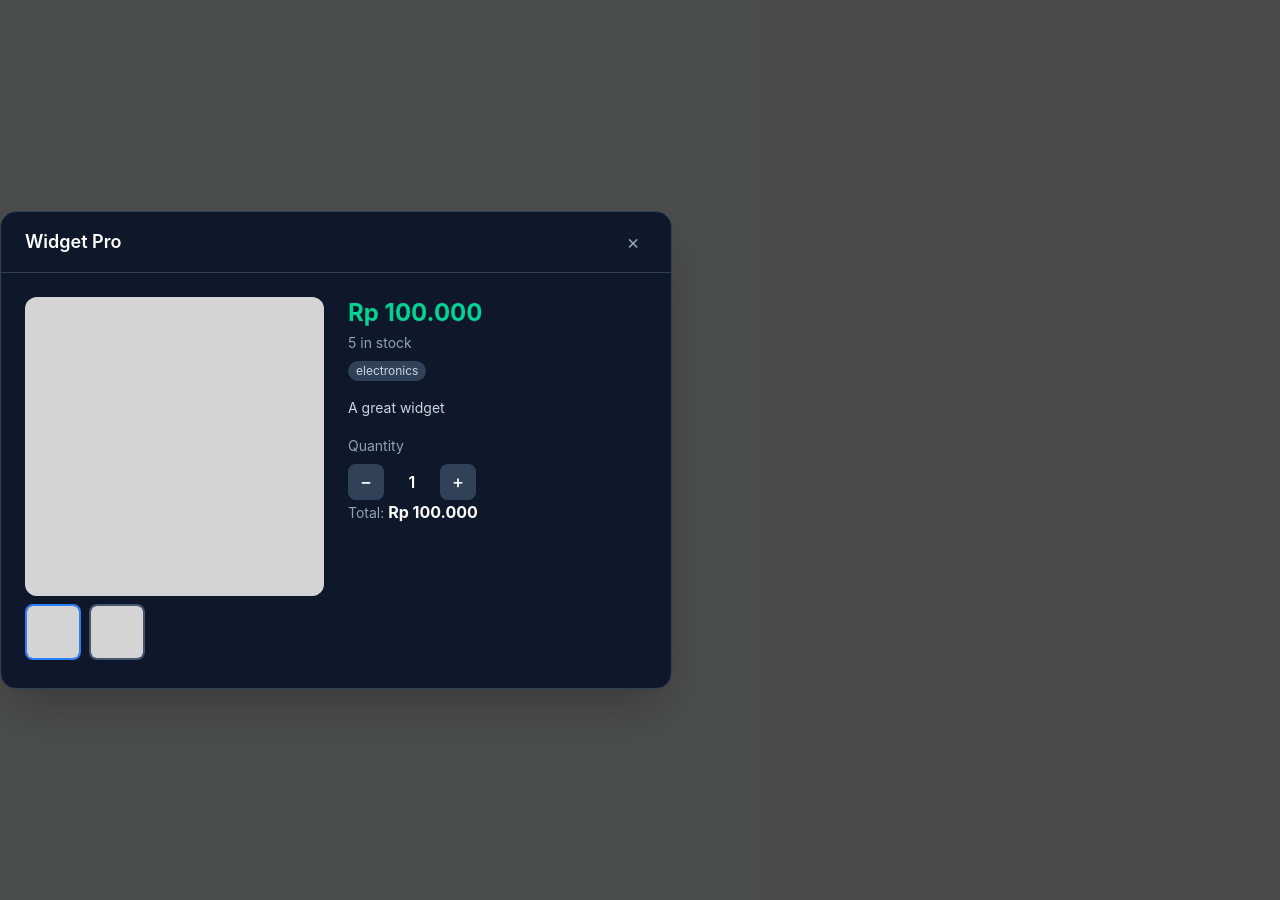
Test case: ProductDetailModal › increments and decrements quantity
What coordinates should you click on to do the following:
click the button "+"
I would click on:
 (458, 482)
Its box is top-left (440, 464), bottom-right (476, 500).
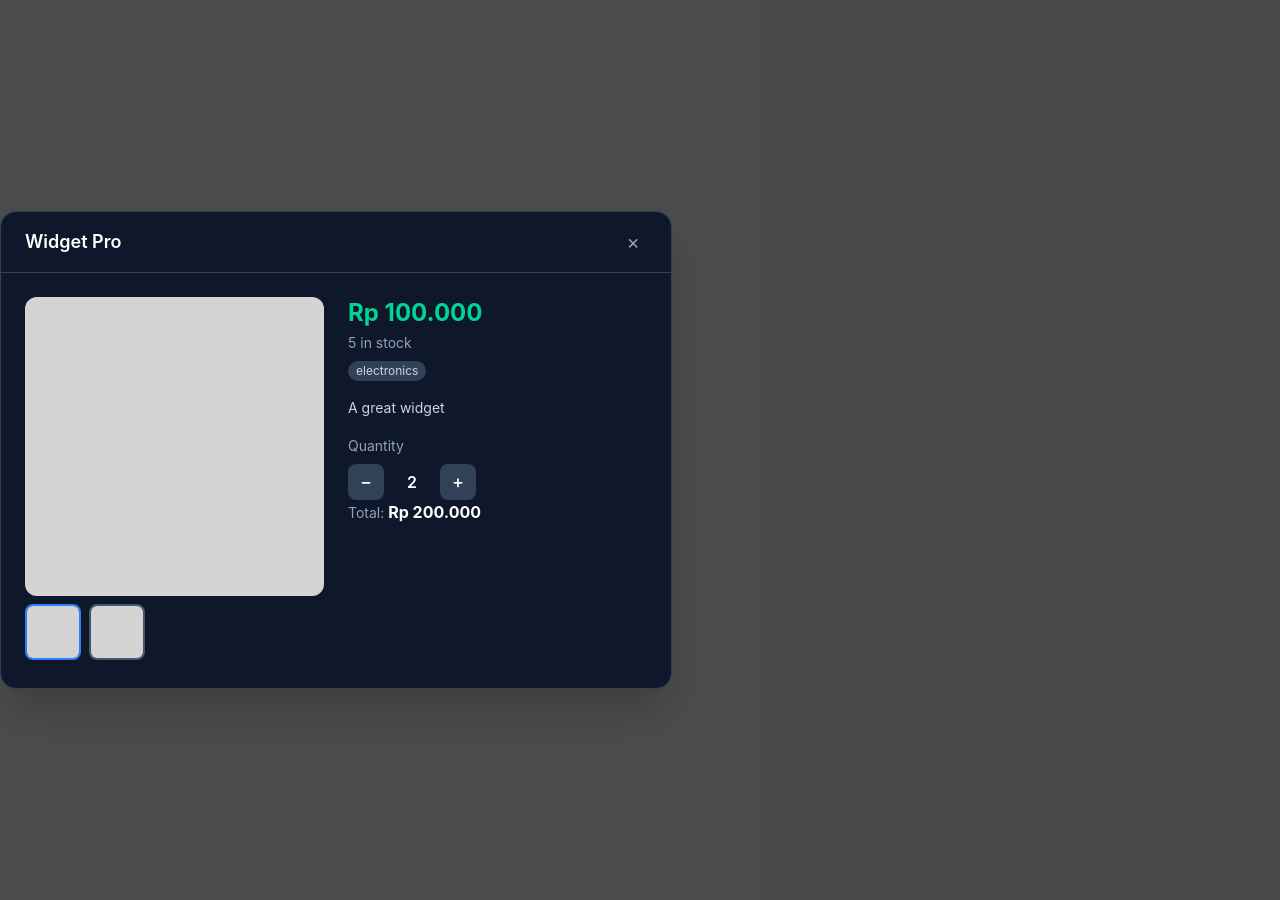
Expected: the text "2" is shown, top-left (407, 472), bottom-right (417, 492)
What coordinates should you click on to do the following:
click the button "−"
I would click on:
 (366, 482)
Its box is top-left (348, 464), bottom-right (384, 500).
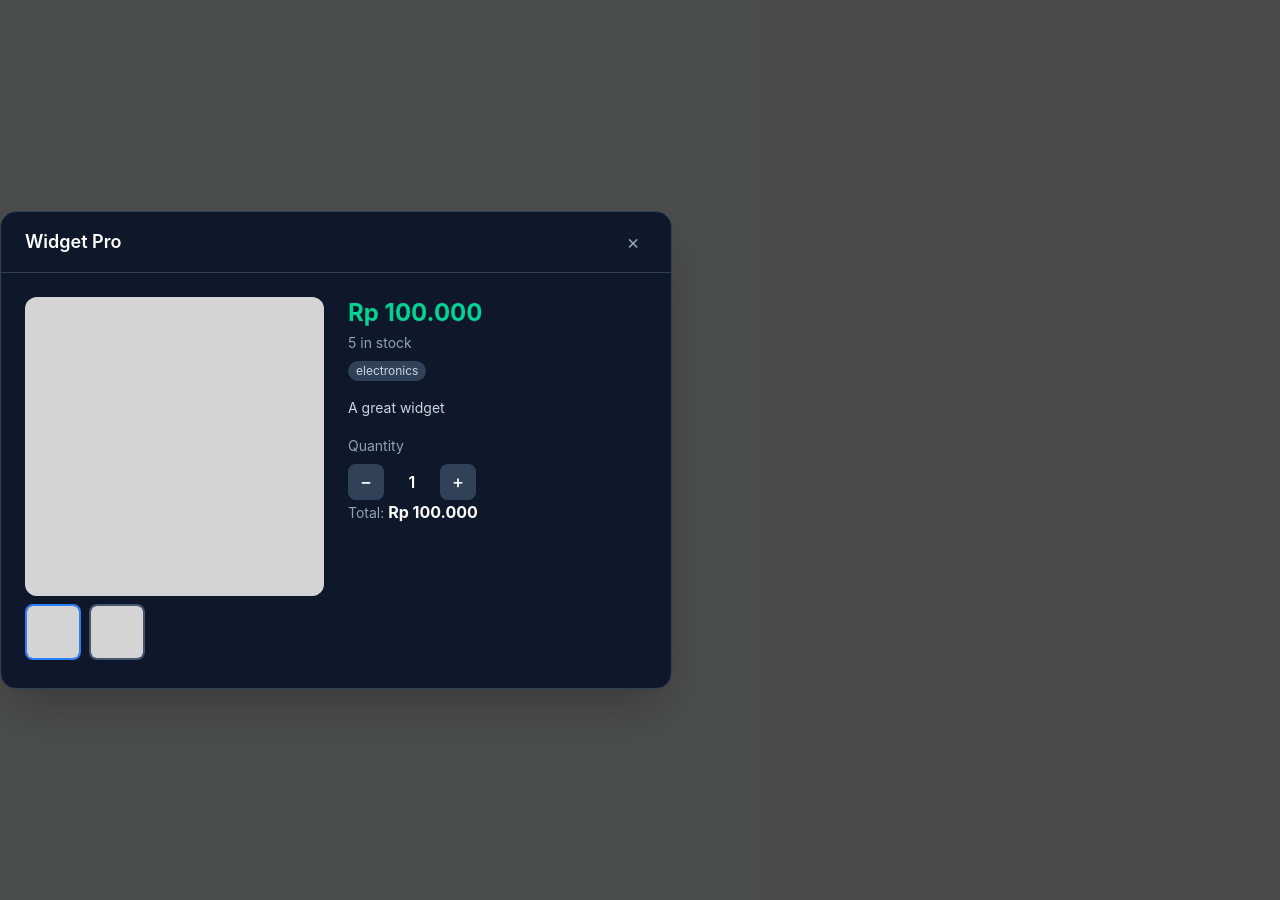
Expected: the text "1" is shown, top-left (409, 472), bottom-right (415, 492)
